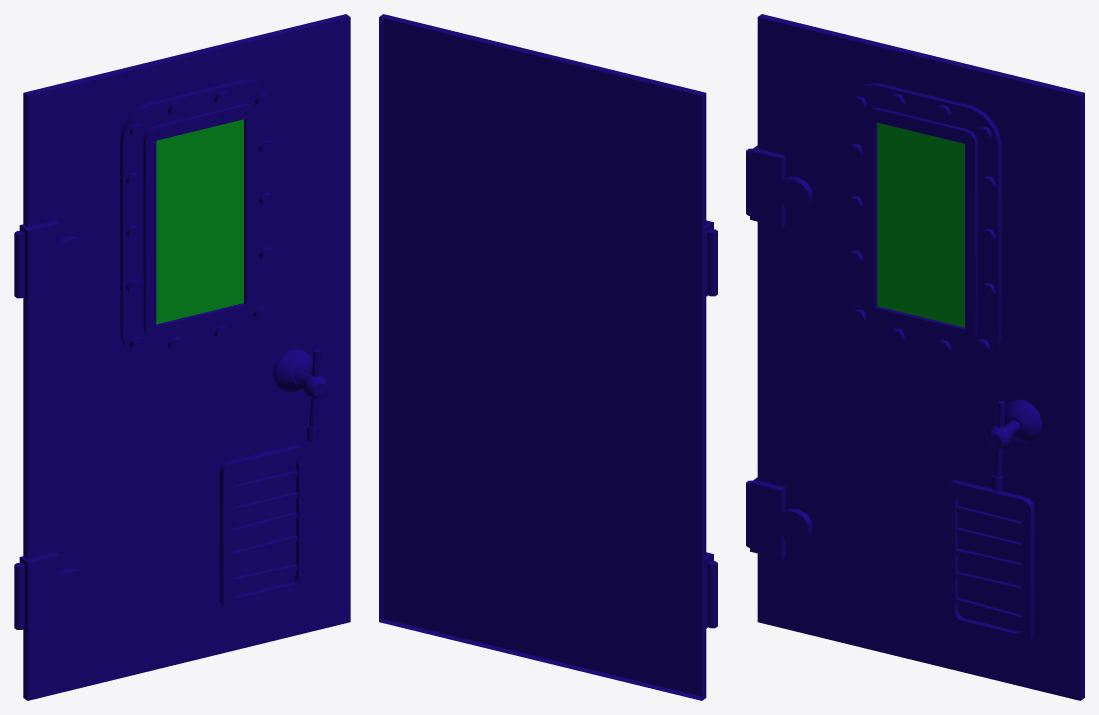
Rendered from Porte_03_4x4x0.FBX.
The picture shows the model from 3 angles, left to right: view 1: azimuth 30°, elevation 25°; view 2: azimuth 150°, elevation 25°; view 3: azimuth 330°, elevation 25°; orthographic projection.
Visible parts, largest first — view 1: Porte_03_4x4x0; view 2: Porte_03_4x4x0; view 3: Porte_03_4x4x0.
Part boxes in pixels (x1=…): Porte_03_4x4x0: x1=14, y1=14, x2=350, y2=700; Porte_03_4x4x0: x1=379, y1=14, x2=717, y2=700; Porte_03_4x4x0: x1=746, y1=14, x2=1084, y2=700.
Bounding box in the file's own units: 157 × 272 × 26.08.
